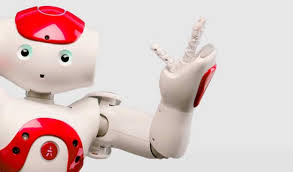nao: (1, 5, 222, 172)
